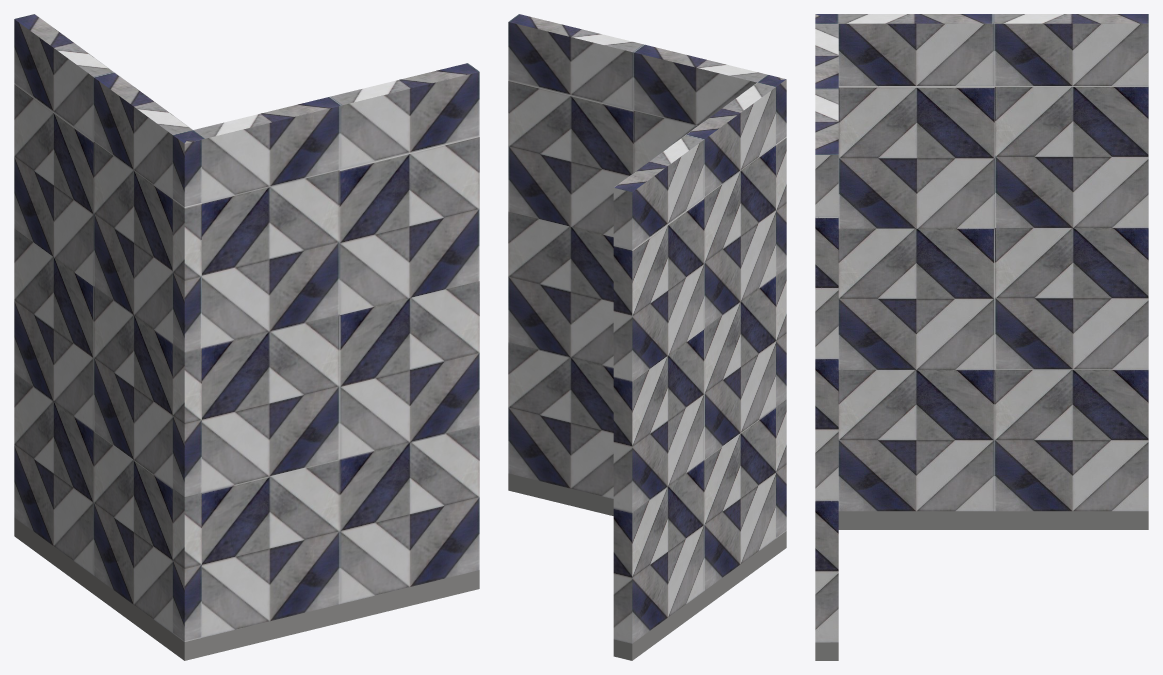
File: ARC0210018.fbx
3 views of the same model, side by side, from view 1: azimuth 30°, elevation 25°; view 2: azimuth 150°, elevation 25°; view 3: azimuth 270°, elevation 25° (orthographic). The views are drawn at different scales.
Parts seen in each view (by area): view 1: smARC0210018; view 2: smARC0210018; view 3: smARC0210018.
Part boxes in pixels (x1,y1,x2,y2): smARC0210018: [14, 14, 479, 660]; smARC0210018: [508, 14, 786, 660]; smARC0210018: [815, 14, 1148, 660].
Bounding box in the file's own units: 196 × 328 × 196.
Materials: 1 (1 with a texture image).
